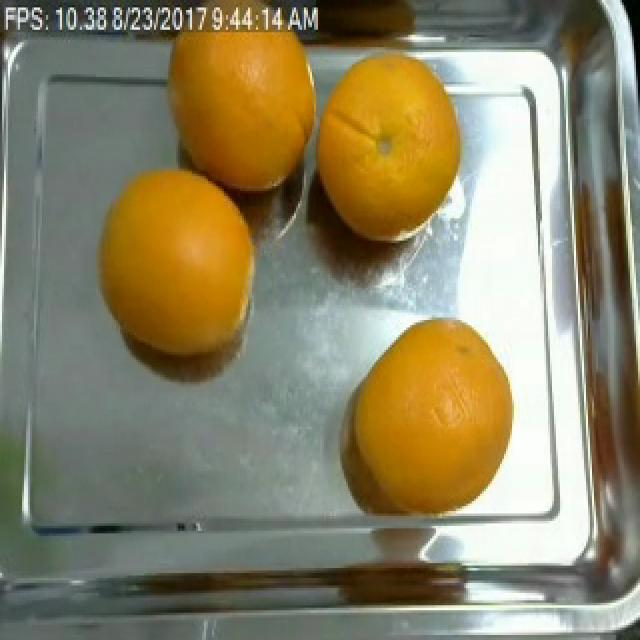Fruit: (300, 32, 474, 253), (138, 8, 316, 224)
